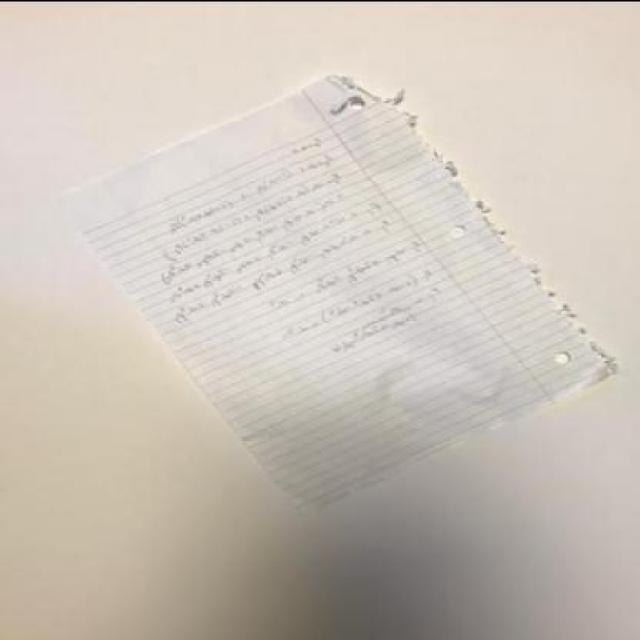PAPER: (69, 72, 616, 506)
